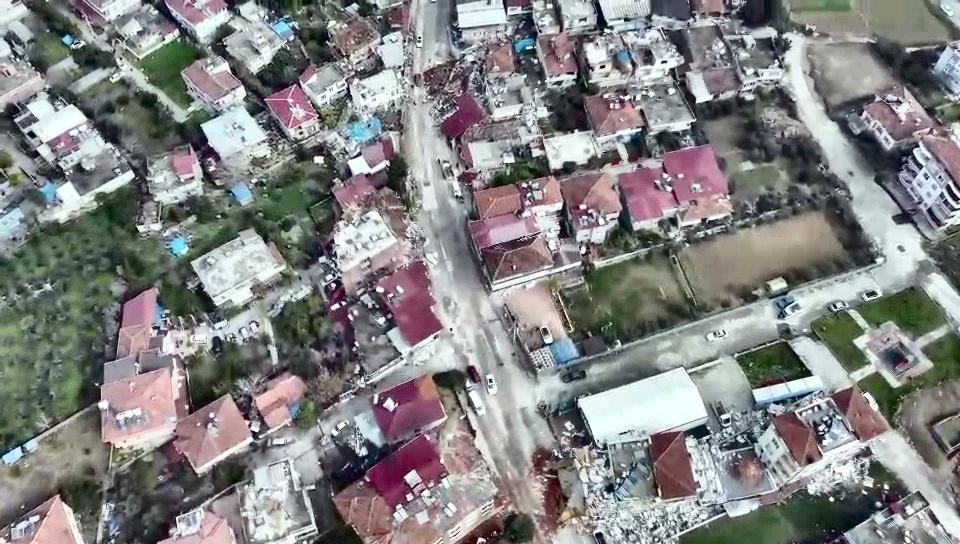kapali: (490, 430, 609, 543), (399, 47, 464, 173)
